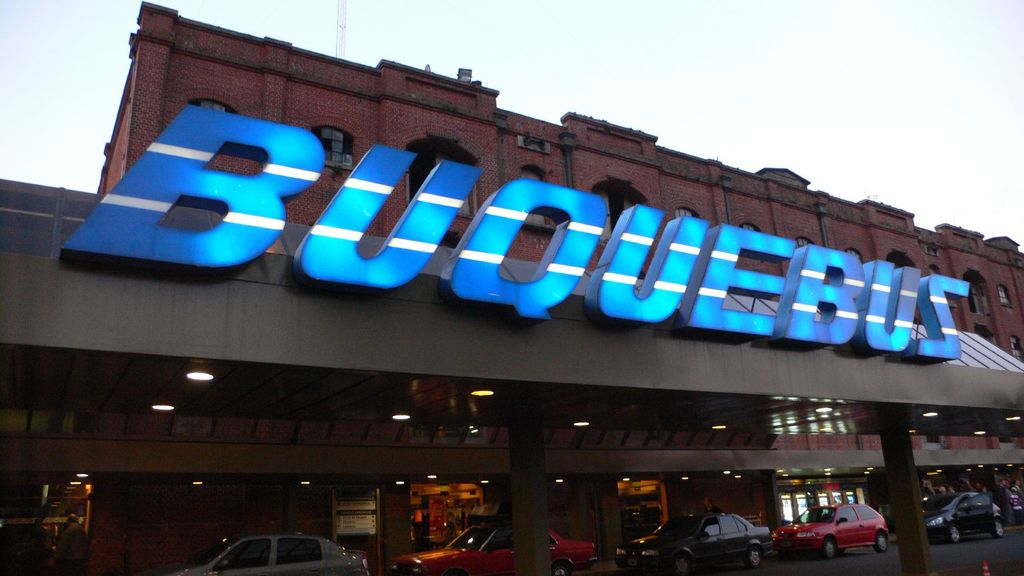cars: (168, 493, 1006, 575)
